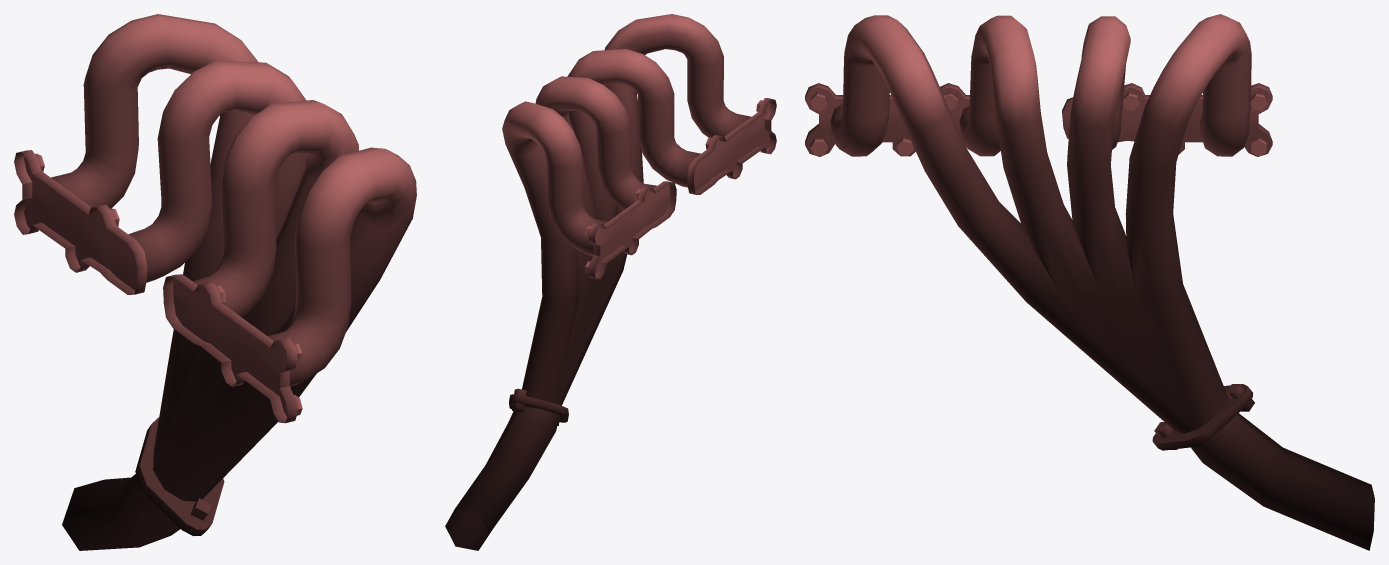
Rendered from BP_Exhaust2.fbx.
The picture shows the model from 3 angles, left to right: view 1: azimuth 30°, elevation 25°; view 2: azimuth 150°, elevation 25°; view 3: azimuth 270°, elevation 25°; orthographic projection. The views are drawn at different scales.
Parts seen in each view (by area): view 1: BP_Exhaust2; view 2: BP_Exhaust2; view 3: BP_Exhaust2.
Boxes of the visible parts, x1=… form: BP_Exhaust2: x1=14, y1=14, x2=416, y2=550; BP_Exhaust2: x1=445, y1=14, x2=776, y2=550; BP_Exhaust2: x1=805, y1=14, x2=1374, y2=550.
Size of the model in its own units: 20.48 by 60.87 by 61.12.
